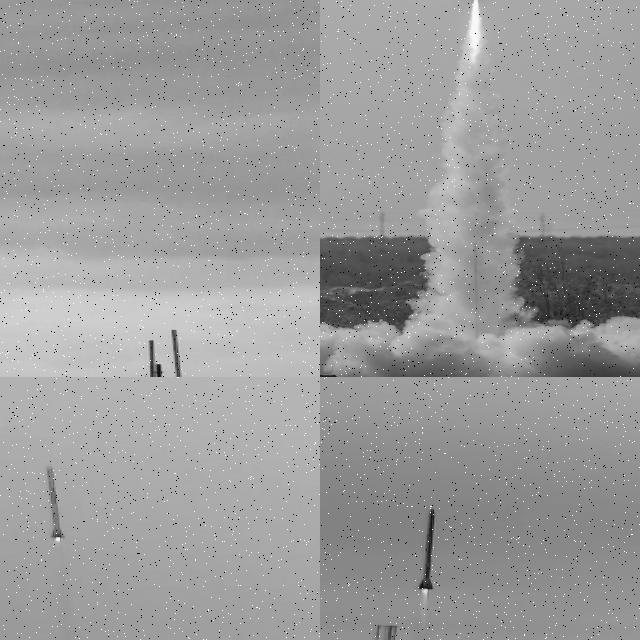Rocket: (44, 465, 67, 538), (417, 508, 436, 590)
